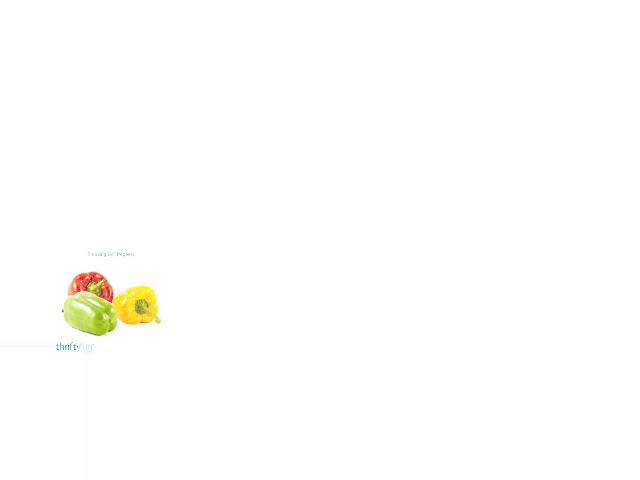bell_pepper: (60, 292, 121, 340)
